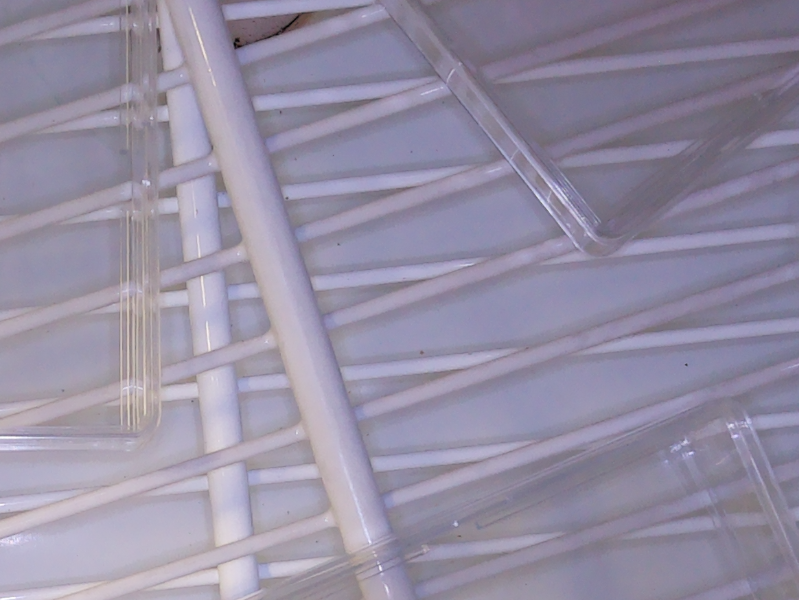plate: (251, 393, 798, 600), (379, 1, 798, 262), (1, 1, 163, 454)
